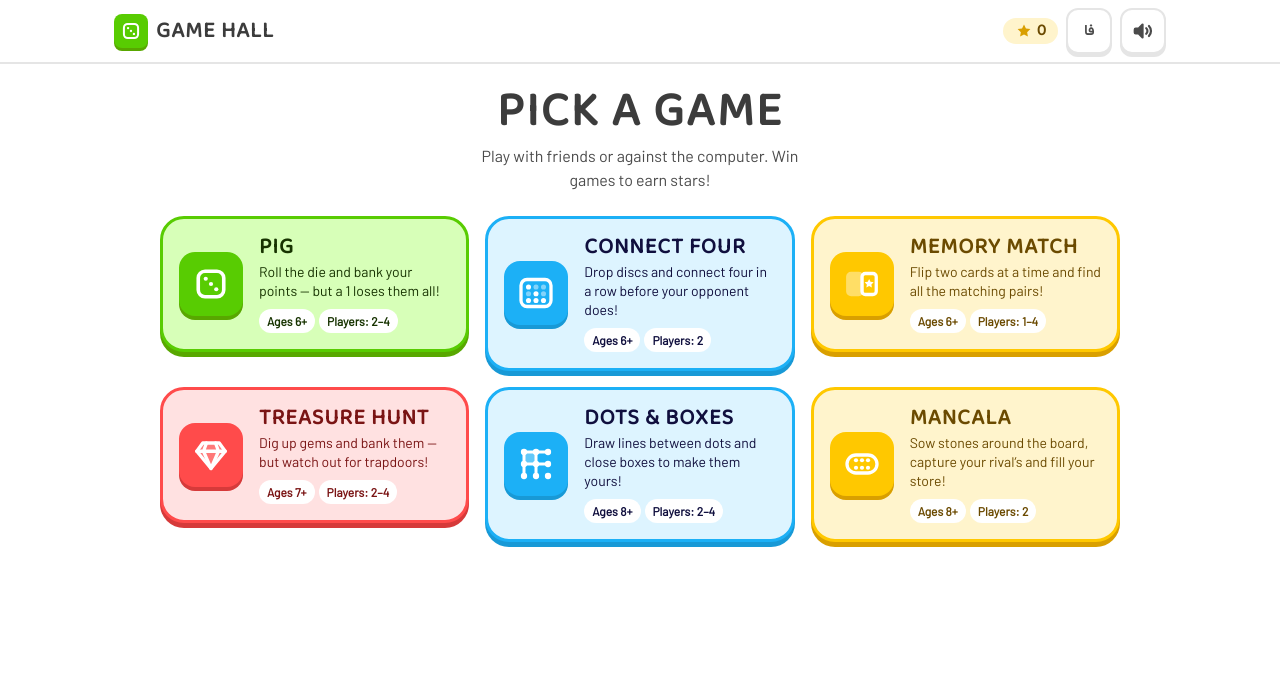
lobby › opens a game from its card and comes back with the home button
Click the link "Pig".
click(315, 284)  # box [160,216,469,352]
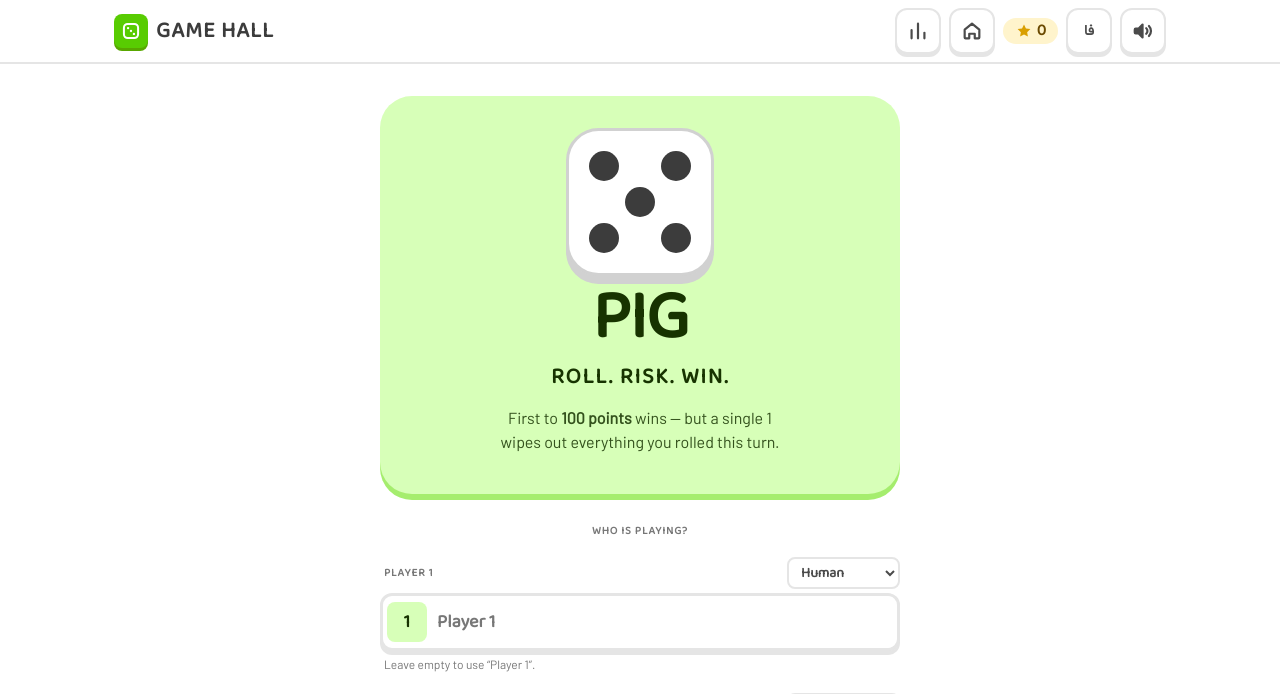
expect the heading "Pig" is shown: met, box [592,288,688,349]
Click the button named "Back to the game hall".
click(972, 31)  # box [949,8,995,54]
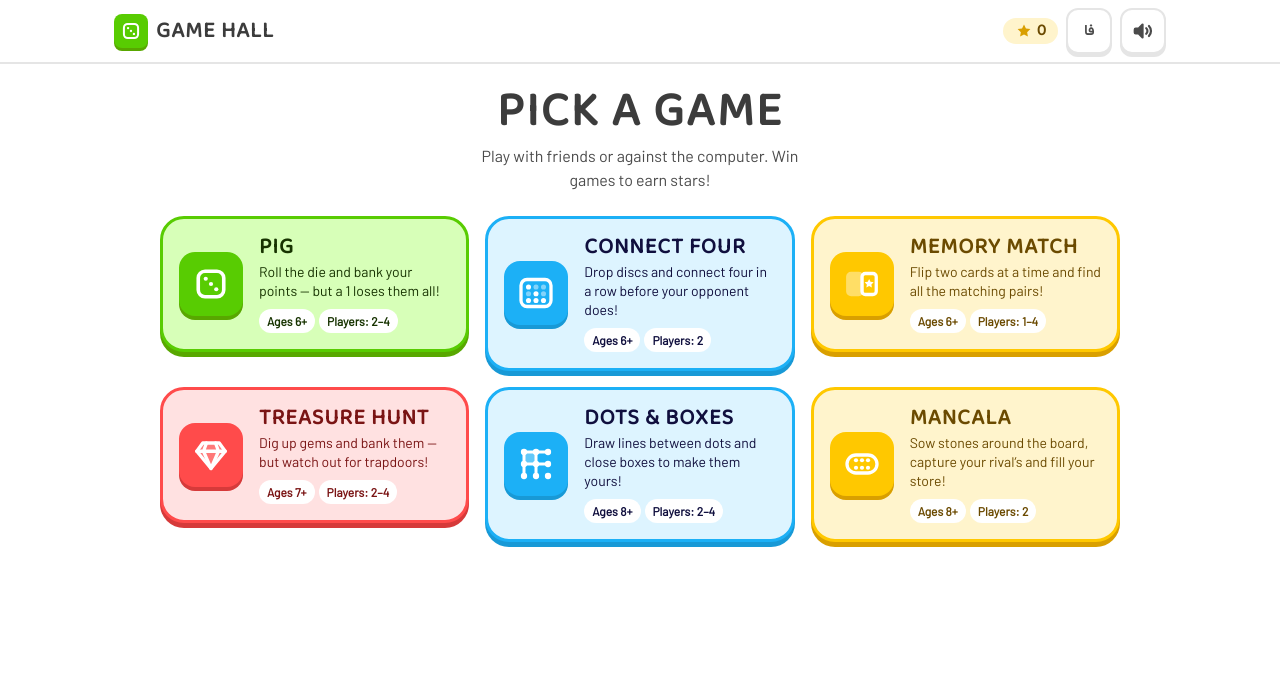
expect the heading "Pick a game" is shown: met, box [497,73,783,150]
